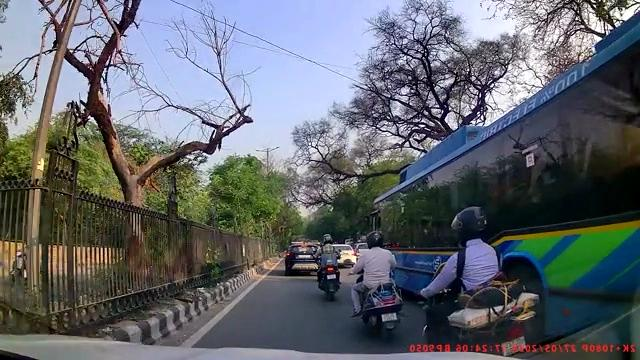motorcycle_with_helmet: (419, 205, 536, 344), (349, 229, 404, 339), (317, 231, 340, 301)
